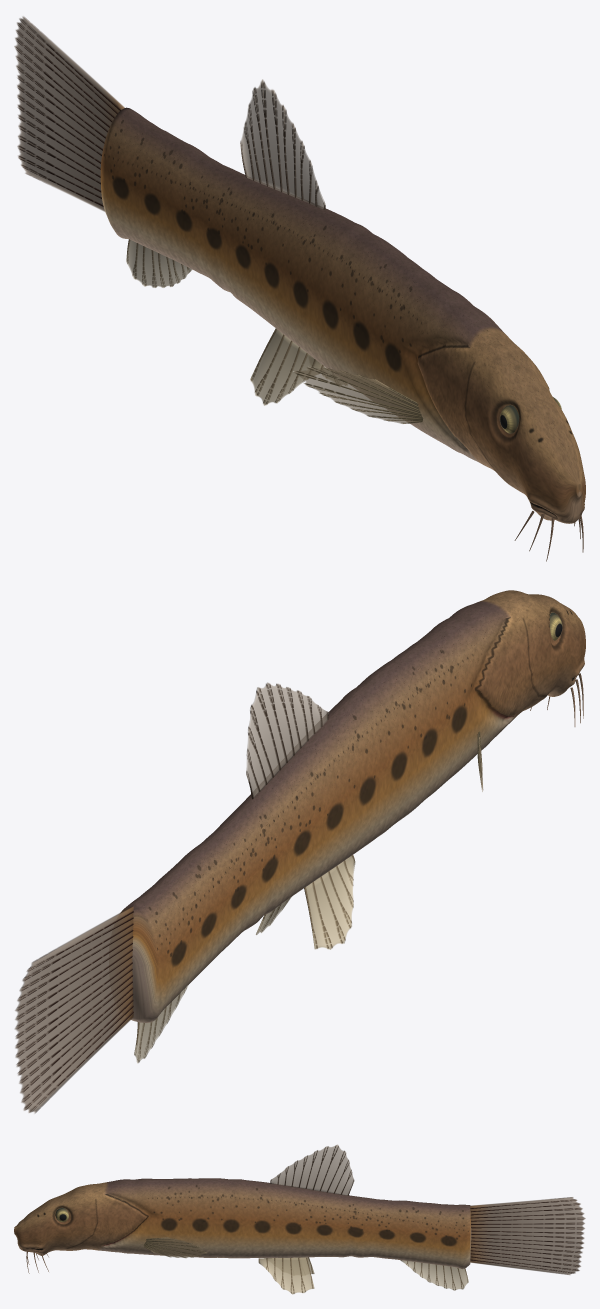
The model's file is koza.glb.
The picture shows the model from 3 angles, top to bottom: view 1: azimuth 30°, elevation 25°; view 2: azimuth 150°, elevation 25°; view 3: azimuth 270°, elevation 25°; orthographic projection. The views are drawn at different scales.
Visible parts, largest first — view 1: Body, FinCaudal, FinDorsal1, FinPectoral, FinPelvic, FinAnal; view 2: Body, FinCaudal, FinDorsal1, FinPelvic, FinAnal; view 3: Body, FinCaudal, FinDorsal1, FinPelvic, FinAnal, FinPectoral.
Part boxes in pixels (box(x1,y1,x2,y2)): Body: box(100, 107, 585, 523); FinCaudal: box(14, 16, 124, 211); FinDorsal1: box(240, 79, 325, 209); FinPectoral: box(293, 367, 423, 423); FinPelvic: box(250, 328, 347, 405); FinAnal: box(126, 239, 192, 287); Body: box(120, 590, 585, 1022); FinCaudal: box(15, 906, 133, 1113); FinDorsal1: box(246, 682, 329, 799); FinPelvic: box(256, 855, 355, 949); FinAnal: box(134, 985, 188, 1063); Body: box(14, 1178, 471, 1269); FinCaudal: box(470, 1197, 585, 1274); FinDorsal1: box(270, 1144, 354, 1195); FinPelvic: box(258, 1257, 314, 1294); FinAnal: box(400, 1260, 468, 1290); FinPectoral: box(144, 1237, 206, 1258).
Size of the model in its own units: 0.1916 by 0.2835 by 1.
Materials: 9 (8 with a texture image).
